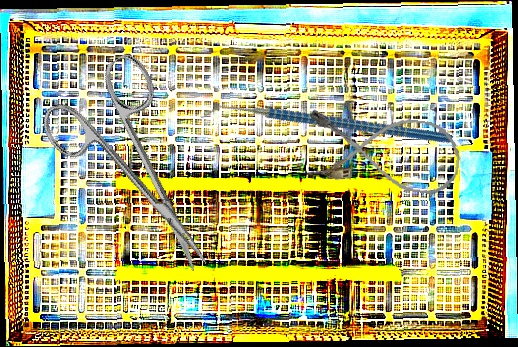Cannula: (302, 105, 465, 198)
Chopper: (200, 30, 454, 224)
Iris Scissors: (31, 49, 248, 300)
